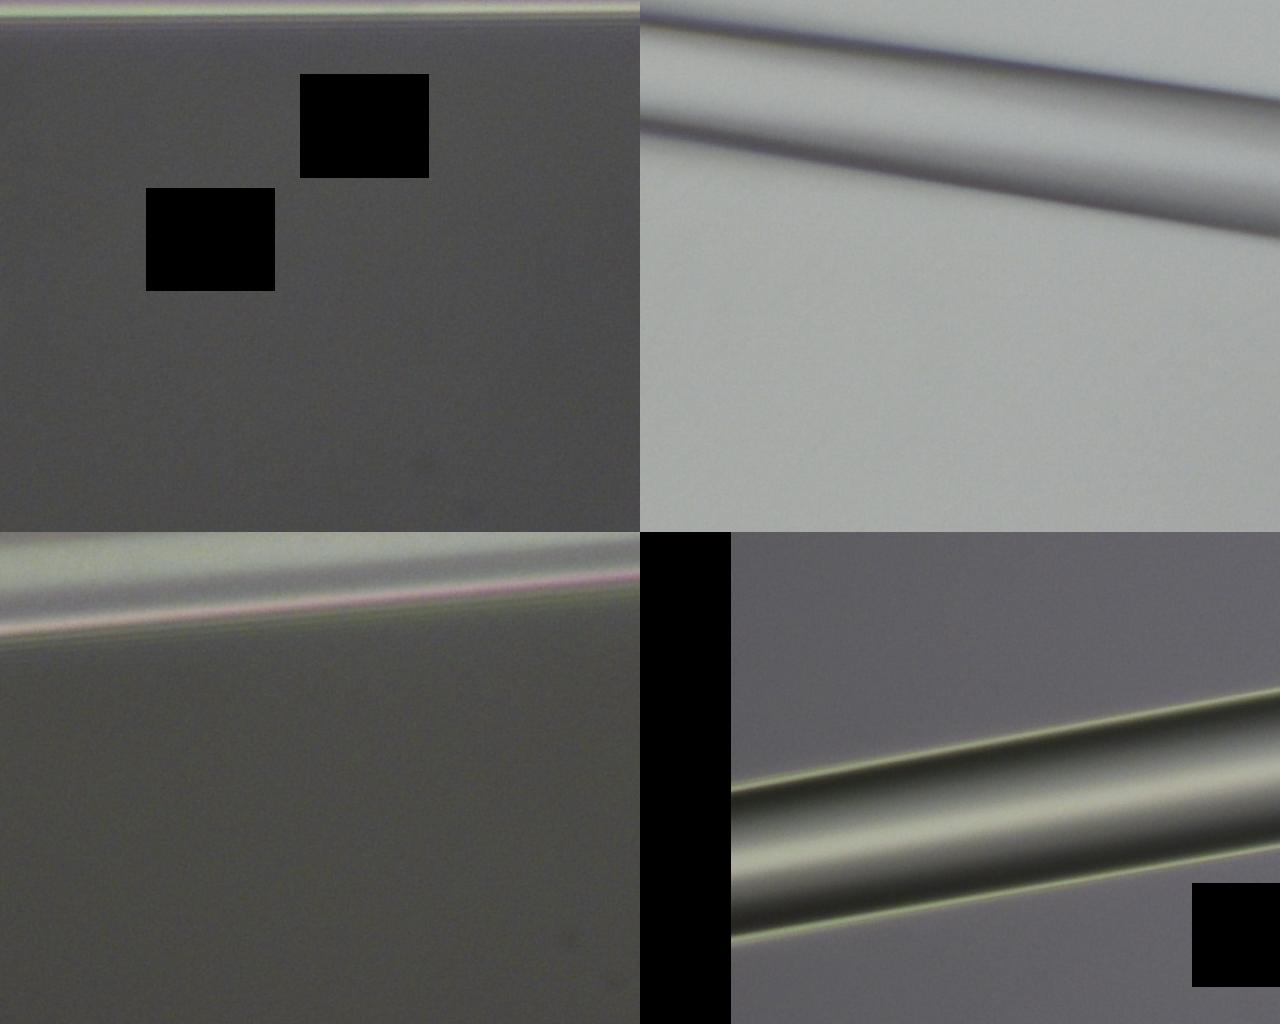fiber: (0, 16, 1280, 937)
